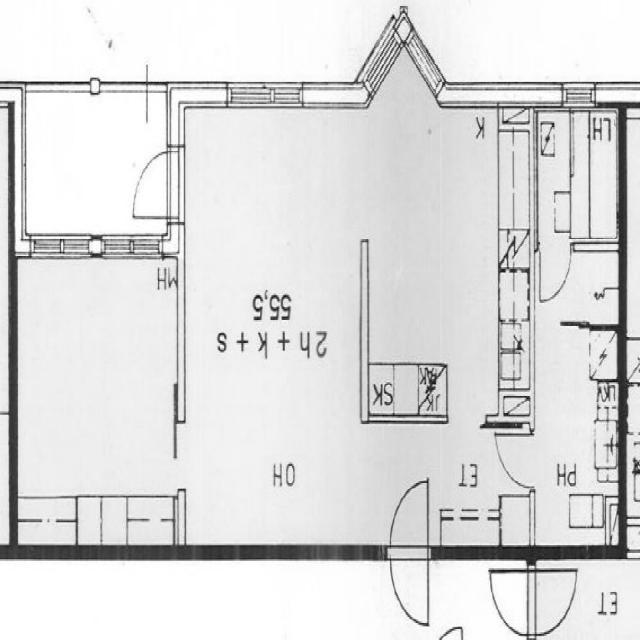door: (182, 95, 362, 550), (364, 96, 529, 429), (13, 248, 186, 552), (530, 319, 617, 552), (534, 102, 613, 242)
window: (25, 231, 171, 272), (222, 72, 306, 112), (358, 15, 403, 84), (402, 16, 437, 96), (544, 75, 605, 117)
zone: (382, 458, 436, 633), (486, 564, 581, 637), (117, 132, 183, 226), (488, 426, 537, 490), (534, 239, 576, 297)
